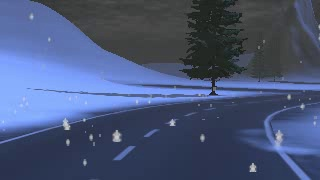Lane: (0, 90, 319, 179)
